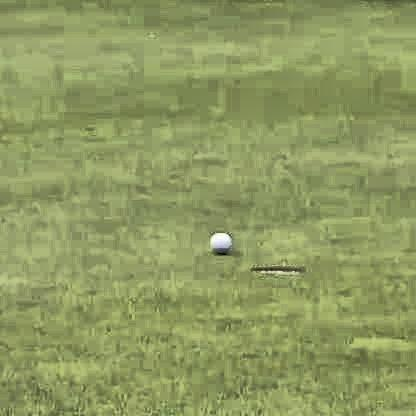golfball: (206, 228, 229, 253)
